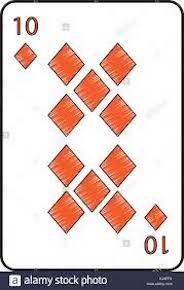TenOfDiamonds: (1, 1, 184, 270)
